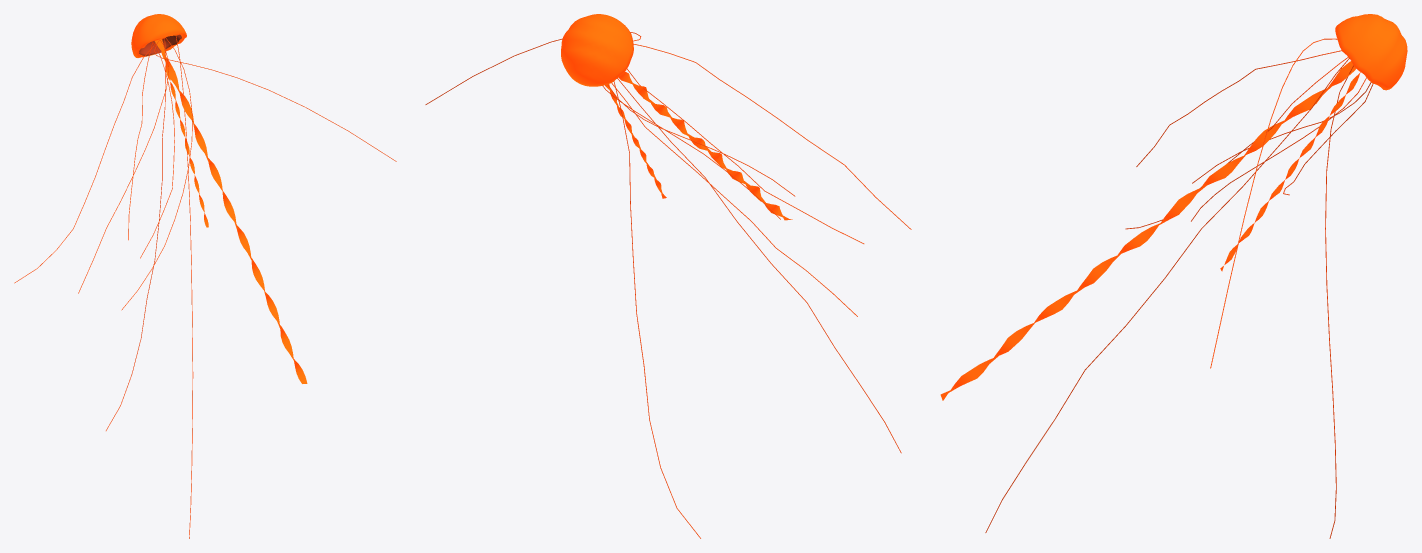
File: jellyfishT3.glb
The picture shows the model from 3 angles, left to right: view 1: azimuth 30°, elevation 25°; view 2: azimuth 150°, elevation 25°; view 3: azimuth 270°, elevation 25°; orthographic projection. The views are drawn at different scales.
Parts seen in each view (by area): view 1: big tentacle, JellyBody, strand03.001, big tentacle.002, strand.001; view 2: JellyBody, big tentacle, strand.001, strand03.001; view 3: big tentacle, JellyBody, big tentacle.002, strand03.001, strand.001.
Boxes of the visible parts, left/top/right/bottom form: big tentacle: left=154, top=39, right=307, bottom=383; JellyBody: left=131, top=14, right=186, bottom=57; strand03.001: left=176, top=36, right=193, bottom=538; big tentacle.002: left=161, top=51, right=208, bottom=227; strand.001: left=106, top=37, right=165, bottom=430; JellyBody: left=561, top=14, right=633, bottom=86; big tentacle: left=618, top=71, right=792, bottom=220; strand.001: left=613, top=81, right=700, bottom=538; strand03.001: left=617, top=78, right=901, bottom=453; big tentacle: left=940, top=61, right=1356, bottom=400; JellyBody: left=1335, top=14, right=1407, bottom=90; big tentacle.002: left=1220, top=72, right=1360, bottom=271; strand03.001: left=985, top=58, right=1349, bottom=532; strand.001: left=1325, top=65, right=1353, bottom=538.
Bounding box in the file's own units: 14.39 × 15.54 × 11.21.
